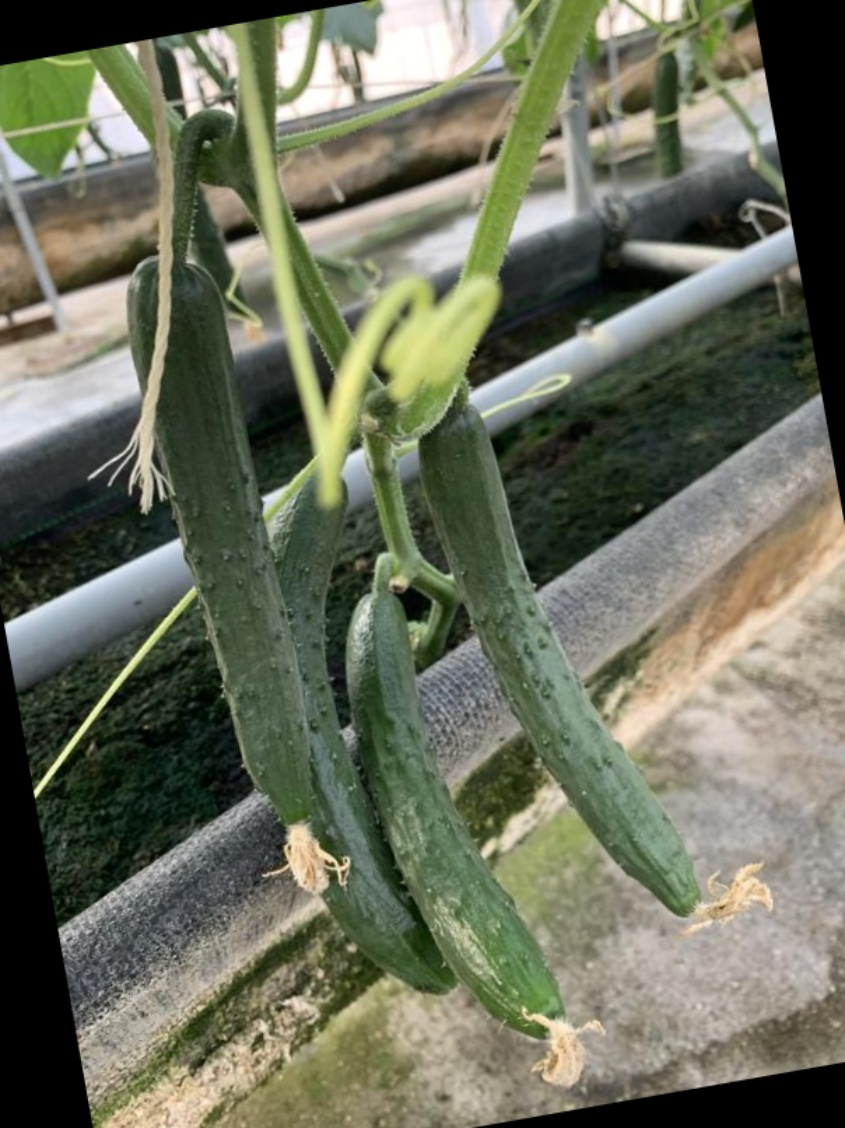mature: (263, 471, 442, 996)
